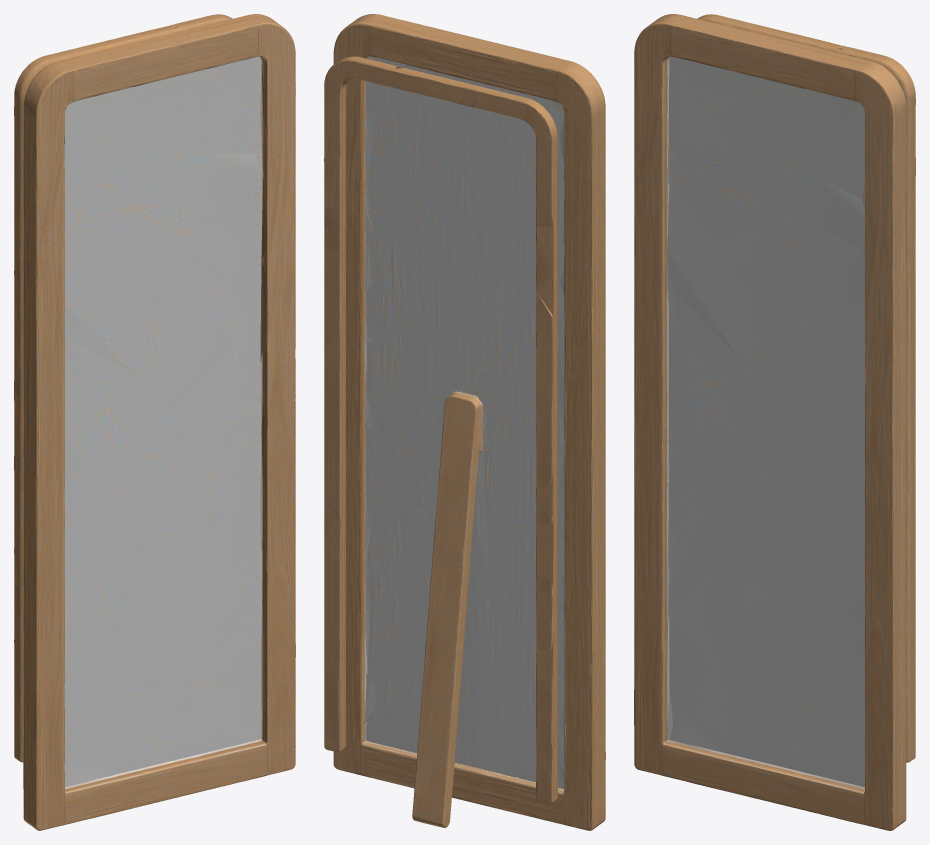
The picture shows the model from 3 angles, left to right: view 1: azimuth 30°, elevation 25°; view 2: azimuth 150°, elevation 25°; view 3: azimuth 330°, elevation 25°; orthographic projection.
Visible parts, largest first — view 1: Mesh_0; view 2: Mesh_0; view 3: Mesh_0.
Part boxes in pixels (bbox=[...]): Mesh_0: bbox=[14, 14, 295, 830]; Mesh_0: bbox=[324, 14, 605, 830]; Mesh_0: bbox=[634, 14, 915, 830].
Bounding box in the file's own units: 0.5893 × 1.63 × 0.1908.
Materials: 1 (1 with a texture image).
